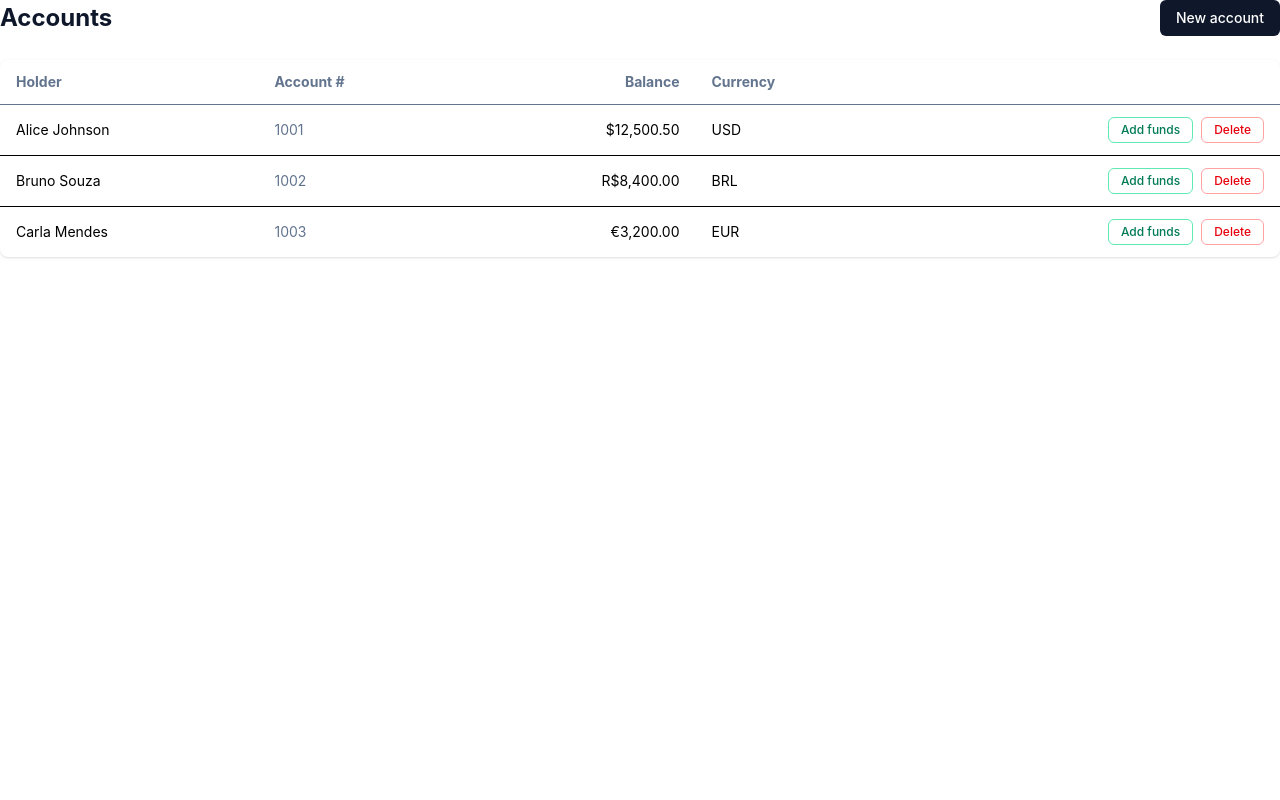
Scenario: AccountsPage › adding funds updates the balance
This screenshot has width=1280, height=800.
Expected: the text "Alice Johnson" is shown, [0, 104, 258, 156]
Click the button "Add funds" in the row of "Alice Johnson".
click(1151, 130)  # box [1108, 117, 1193, 143]
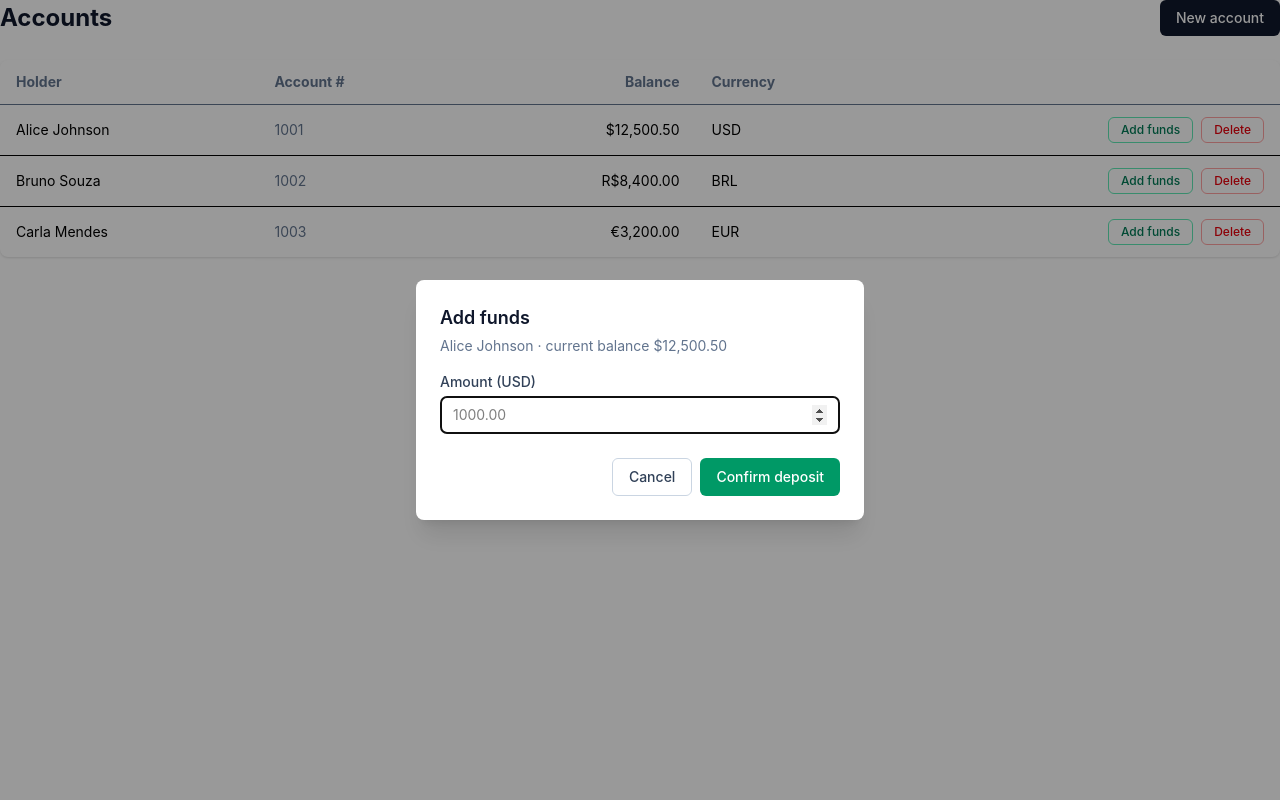
Type "500" into the number field with placeholder "1000.00".
click(640, 415); type("500")  # box [440, 396, 840, 434]
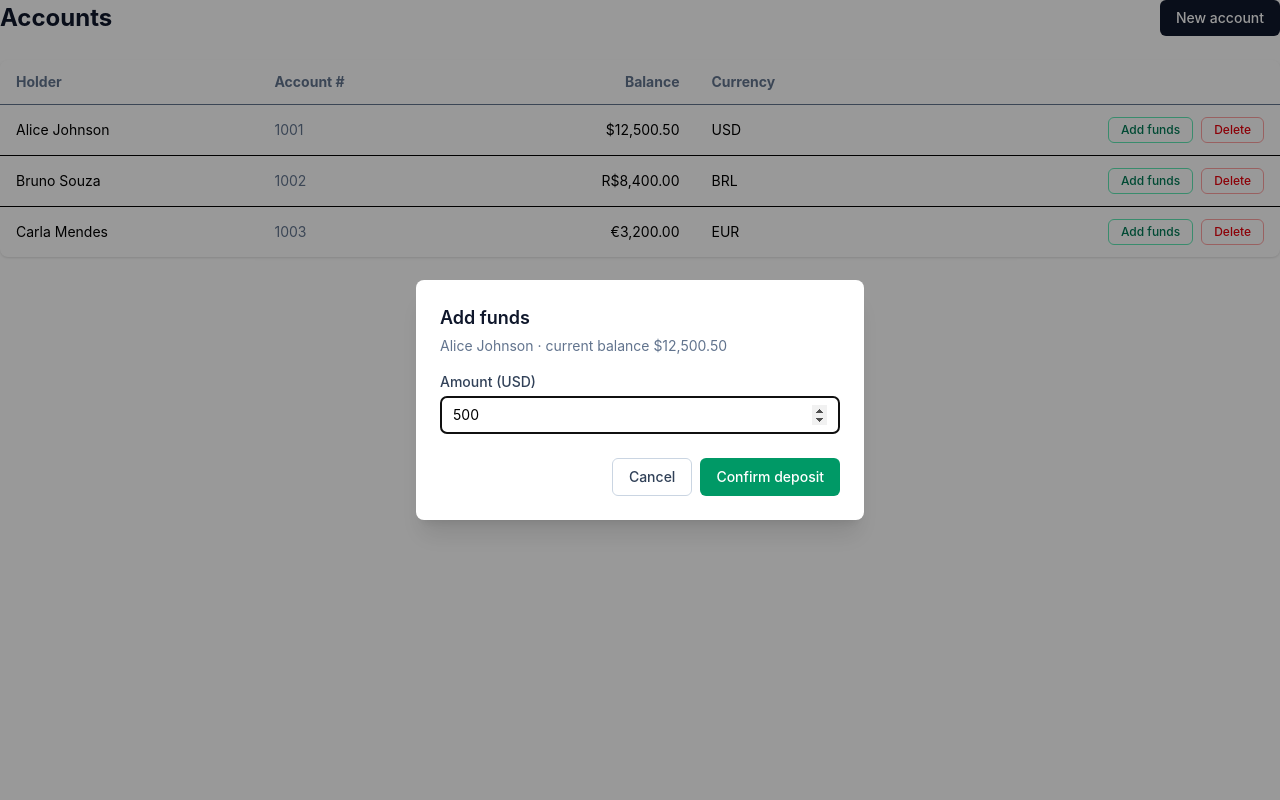
Click the button "Confirm deposit".
click(770, 477)  # box [700, 458, 840, 496]
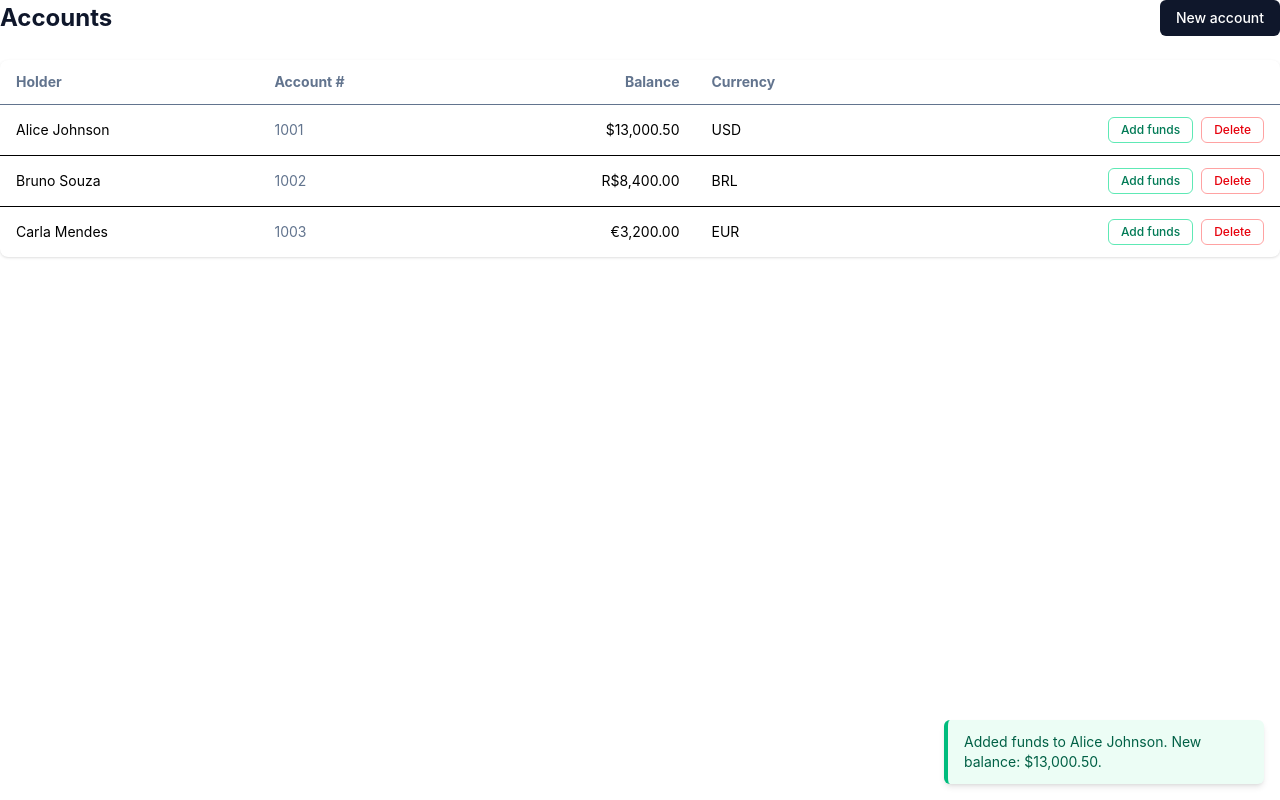
Expected: the dialog is gone
Expected: the text "$13,000.50" is shown, [469, 104, 696, 156]
Expected: the text "Added funds to Alice Johnson. New balance: $13,000.50." is shown, [944, 720, 1264, 784]
